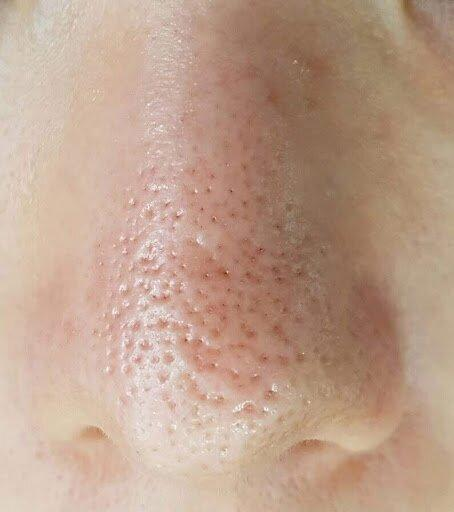blackhead: (166, 321, 215, 360), (145, 285, 168, 315), (266, 269, 291, 293), (258, 348, 279, 373), (223, 182, 249, 201), (191, 201, 213, 222), (218, 262, 238, 283)
